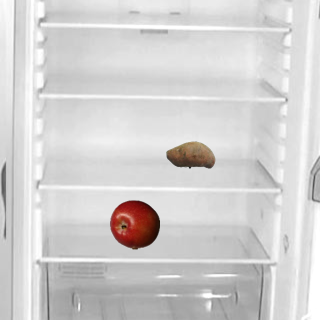Apple Braeburn: (109, 199, 159, 249)
Potato Sweet: (165, 129, 215, 179)
